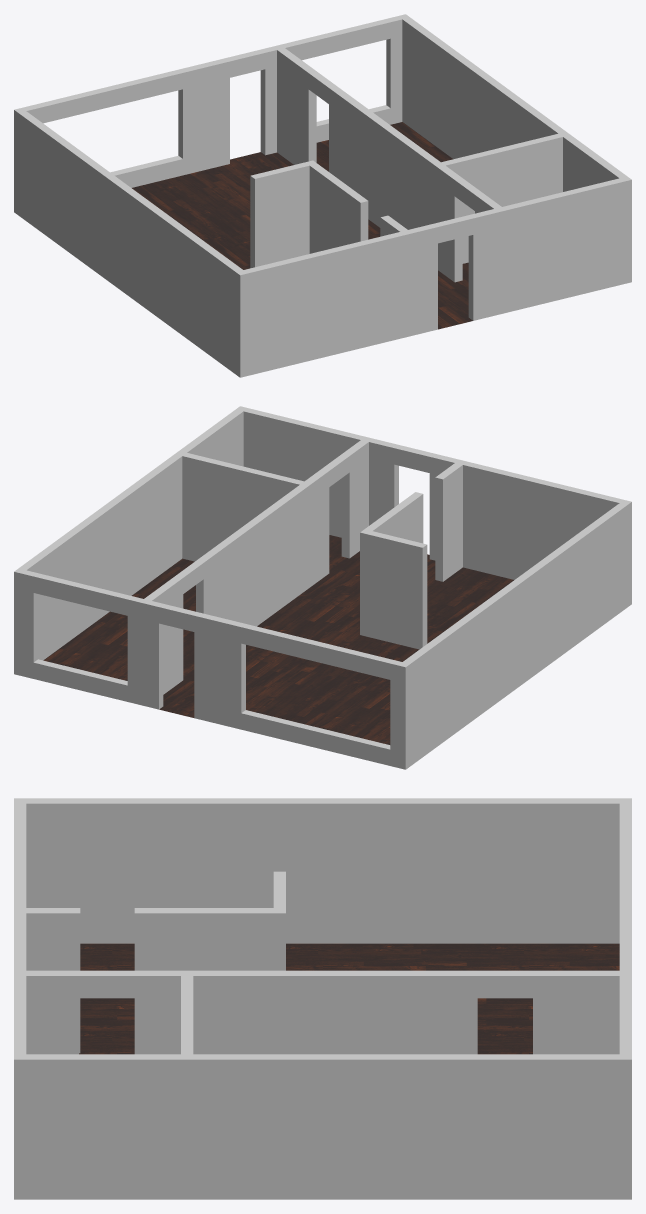
File: Apartment.fbx
The picture shows the model from 3 angles, top to bottom: view 1: azimuth 30°, elevation 25°; view 2: azimuth 150°, elevation 25°; view 3: azimuth 270°, elevation 25°; orthographic projection. The views are drawn at different scales.
Visible parts, largest first — view 1: Mesh_1, Mesh_0; view 2: Mesh_1, Mesh_0; view 3: Mesh_1, Mesh_0.
Boxes of the visible parts, x1=… form: Mesh_1: x1=14, y1=14, x2=631, y2=377; Mesh_0: x1=132, y1=122, x2=472, y2=329; Mesh_1: x1=14, y1=406, x2=631, y2=769; Mesh_0: x1=43, y1=535, x2=513, y2=744; Mesh_1: x1=14, y1=798, x2=631, y2=1199; Mesh_0: x1=79, y1=943, x2=619, y2=1054.
Bounding box in the file's own units: 1000 × 250 × 1000.
